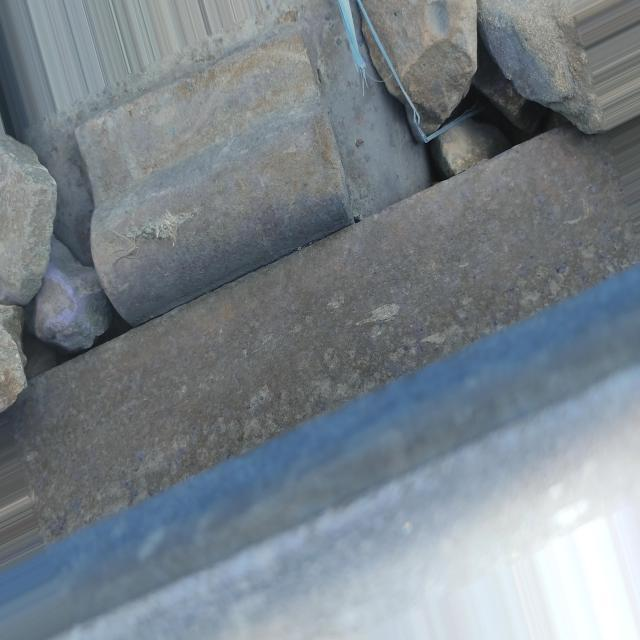Missing Fastener: (50, 13, 379, 345)
